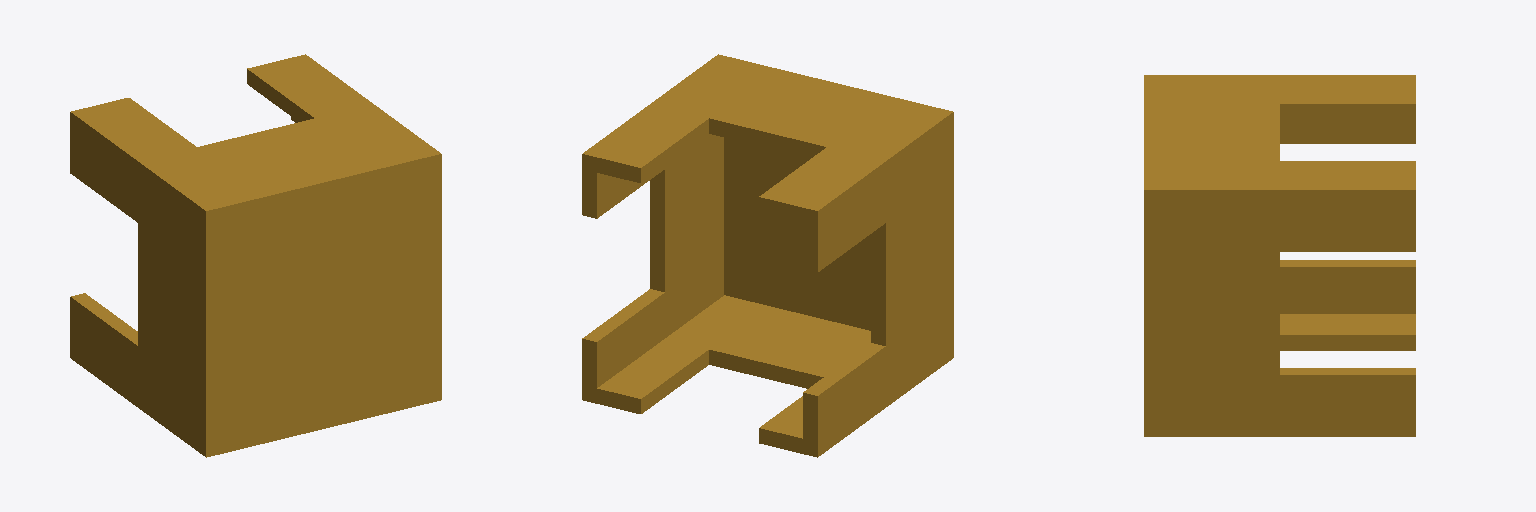
The picture shows the model from 3 angles: view 1: azimuth 30°, elevation 25°; view 2: azimuth 150°, elevation 25°; view 3: azimuth 270°, elevation 25°; orthographic projection.
Bounding box in the file's own units: 128 × 128 × 128.
Materials: 1 (1 with a texture image).